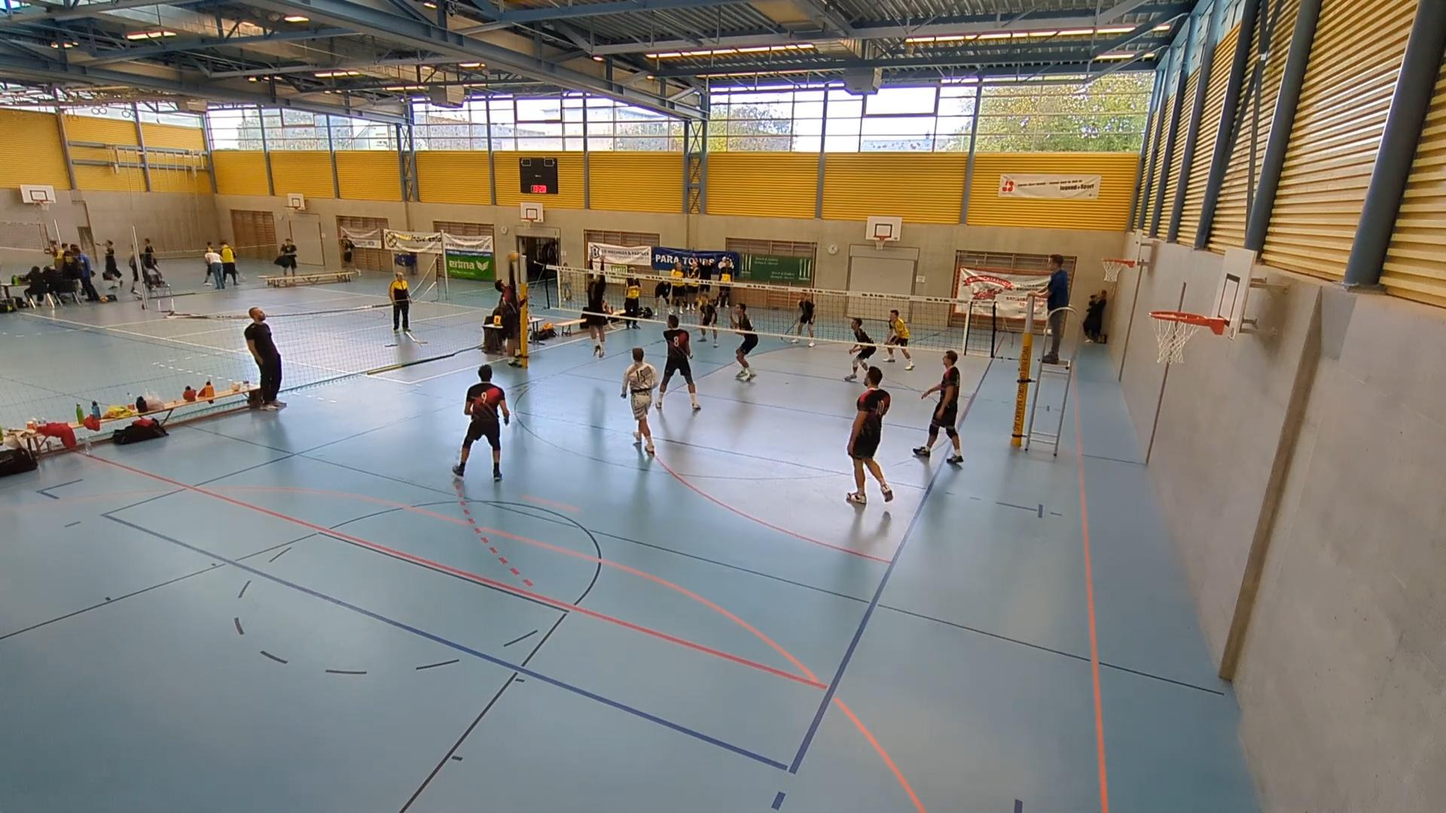attacco: (495, 250, 531, 371)
muro: (579, 243, 613, 362)
